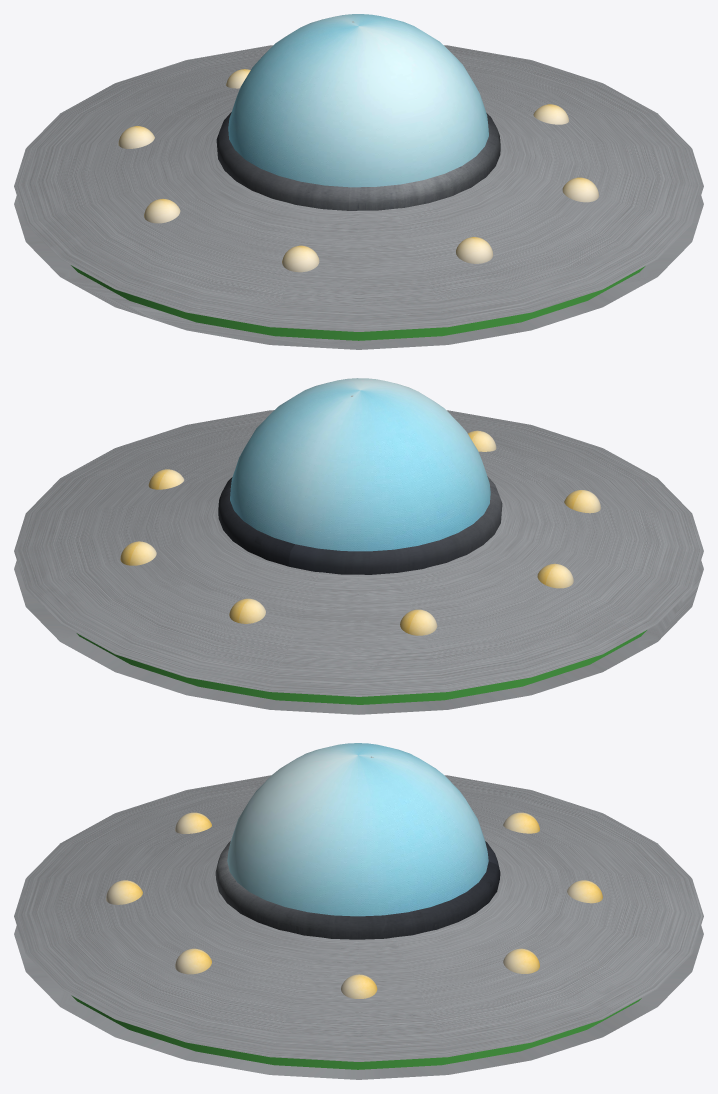
The model's file is ovni.fbx.
3 renders of one model, top to bottom at view 1: azimuth 30°, elevation 25°; view 2: azimuth 150°, elevation 25°; view 3: azimuth 270°, elevation 25°, orthographic.
Visible parts, largest first — view 1: Cone001, Sphere001, Cone003, Sphere003, Cone002, Sphere014, Sphere013, Sphere015, Sphere020, Sphere019, Sphere016; view 2: Cone001, Sphere001, Cone003, Sphere003, Cone002, Sphere019, Sphere018, Sphere020, Sphere017, Sphere013, Sphere016; view 3: Cone001, Sphere001, Cone003, Sphere003, Cone002, Sphere015, Sphere017, Sphere016, Sphere014, Sphere018, Sphere013, Sphere019.
Boxes of the visible parts, x1,y1,x2,y2 form: Cone001: (14,45,703,331); Sphere001: (228,14,488,187); Cone003: (14,195,703,349); Sphere003: (216,112,500,210); Cone002: (71,265,645,340); Sphere014: (456,237,493,263); Sphere013: (282,245,319,272); Sphere015: (562,177,598,202); Sphere020: (144,198,180,223); Sphere019: (118,126,154,148); Sphere016: (533,104,568,124); Cone001: (14,410,703,696); Sphere001: (230,378,490,551); Cone003: (14,560,703,714); Sphere003: (218,476,502,574); Cone002: (76,630,646,704); Sphere019: (400,609,437,635); Sphere018: (229,598,265,623); Sphere020: (537,563,573,588); Sphere017: (120,541,156,565); Sphere013: (564,490,600,513); Sphere016: (148,469,184,489); Cone001: (14,775,703,1061); Sphere001: (227,743,488,916); Cone003: (14,925,703,1079); Sphere003: (215,841,500,939); Cone002: (71,995,641,1069); Sphere015: (175,948,211,974); Sphere017: (503,948,539,973); Sphere016: (341,974,377,998); Sphere014: (106,880,142,904); Sphere018: (567,880,602,903); Sphere013: (175,812,211,833); Sphere019: (503,812,539,833).
Size of the model in its own units: 108 by 45.73 by 108.
